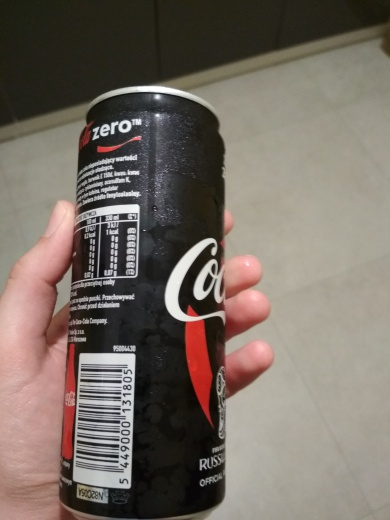colazero: (43, 84, 232, 520)
